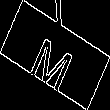M_NE: (29, 22, 81, 88)
